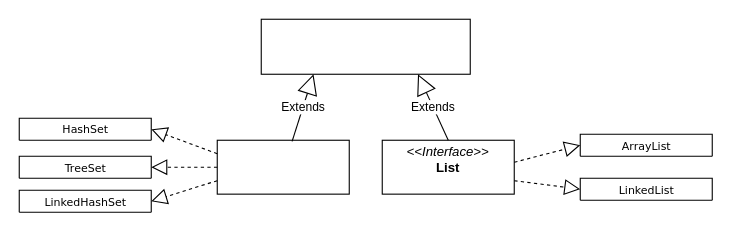
The diagram is 732 pixels wide and 237 high, and some of its shapes have lost their labels. Here are the shapes that lost their labels. From the top down, the box of each, then its label:
(260, 18, 470, 74): <<Interface>> Collection
(216, 139, 349, 194): <<Interface>> Set
